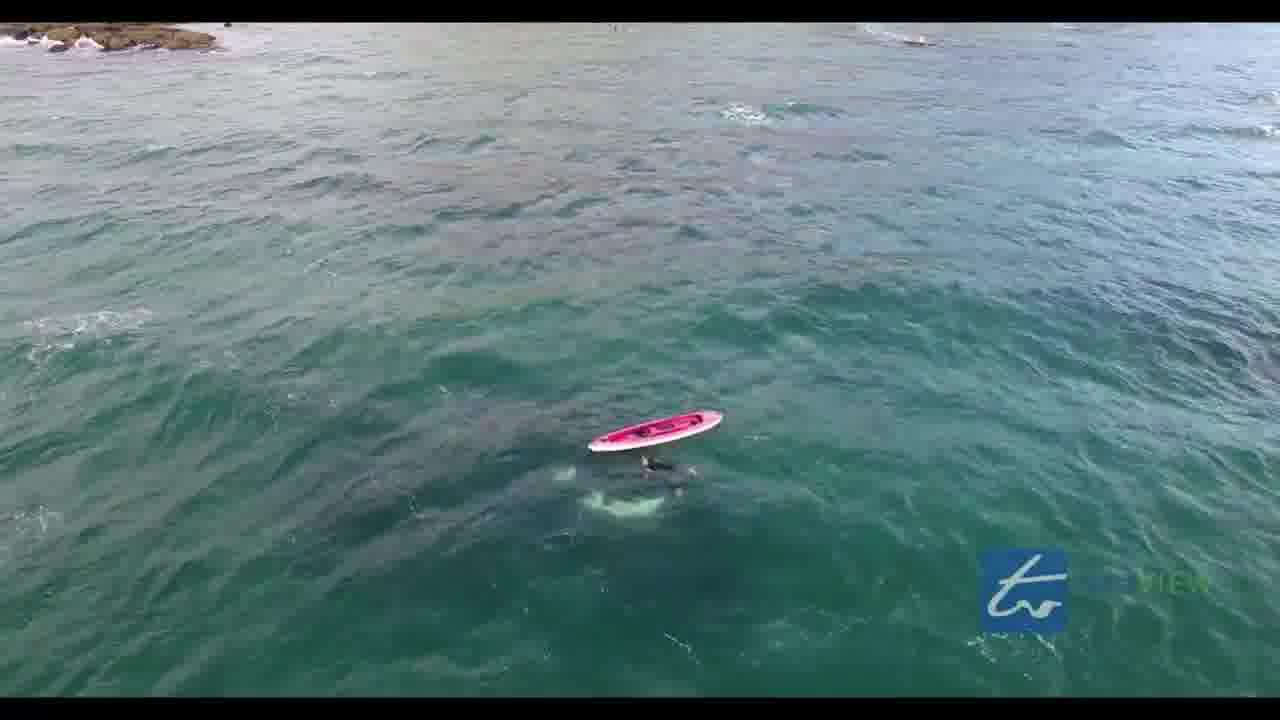human: (635, 449, 693, 485)
